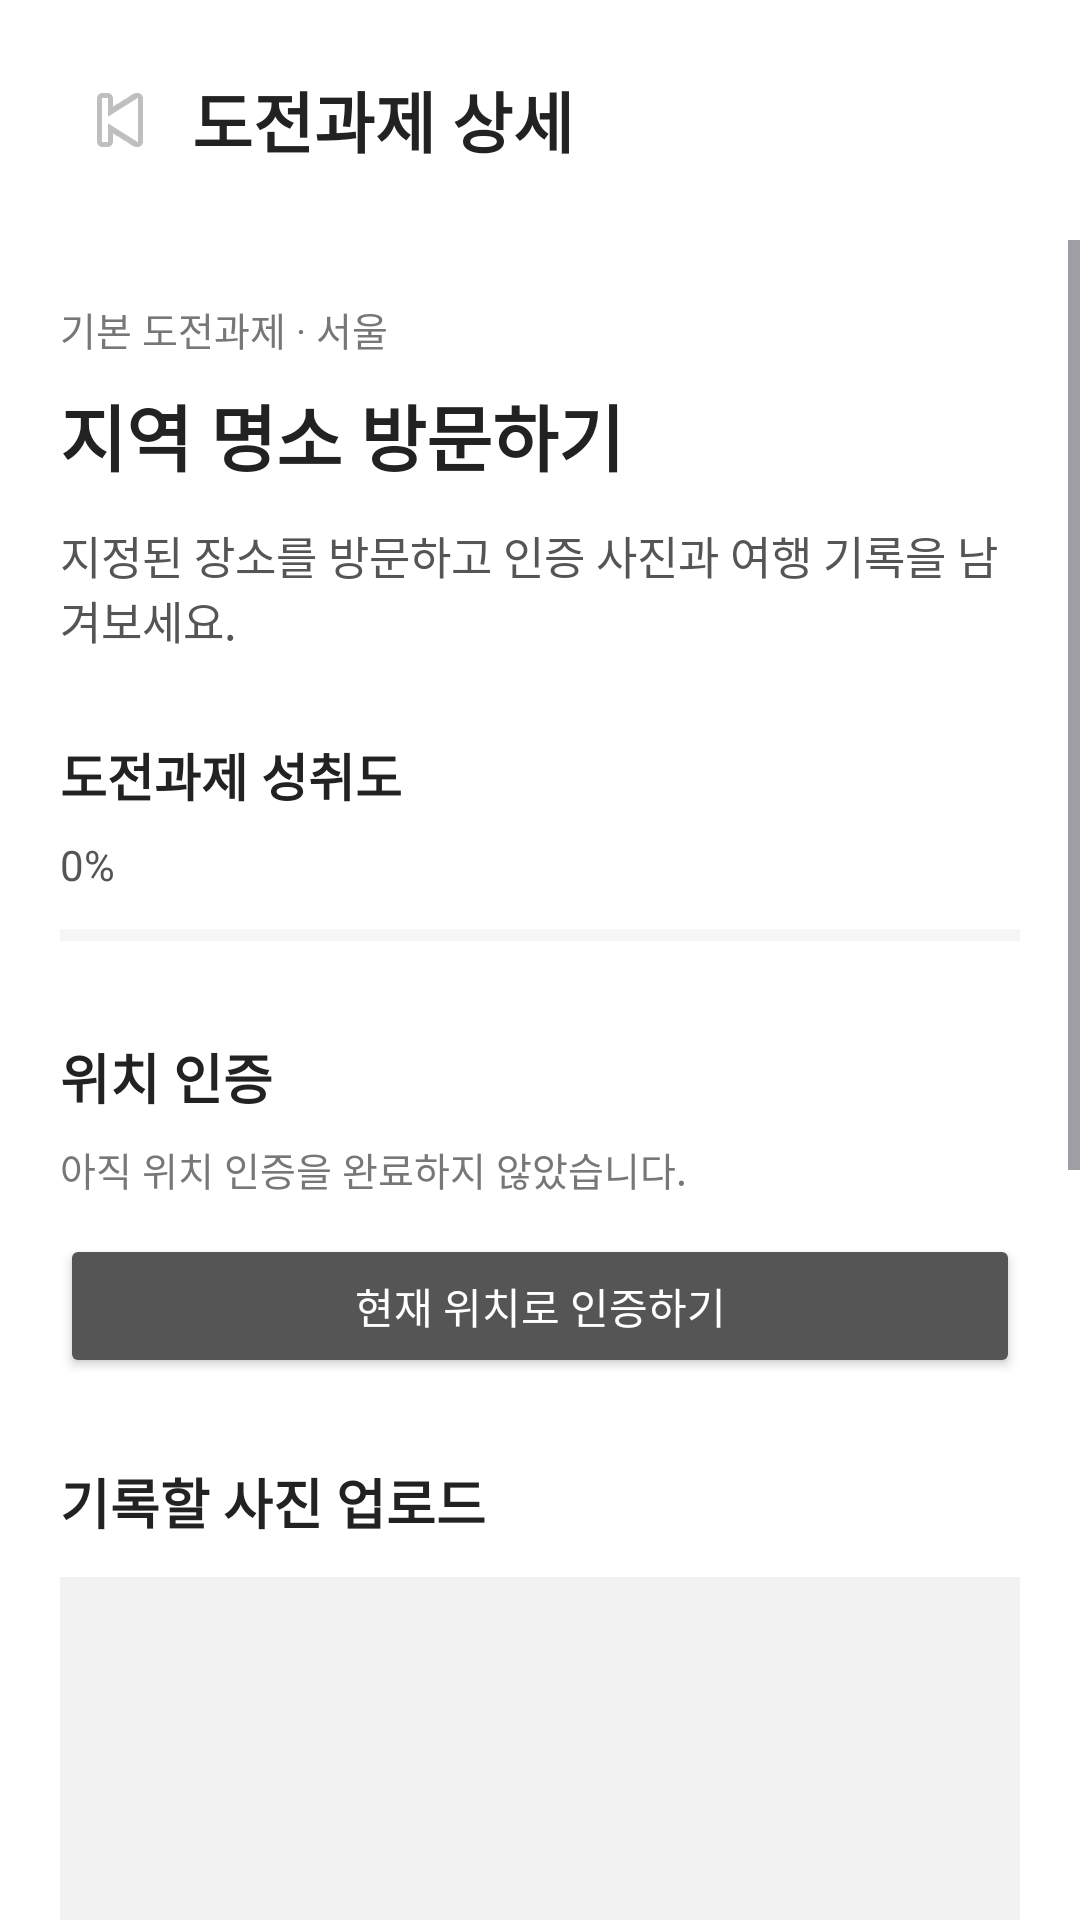

Point at icon controls on the screen. Image size 1080px x 1920px, points as (x,y).
뒤로가기: (120,120)
